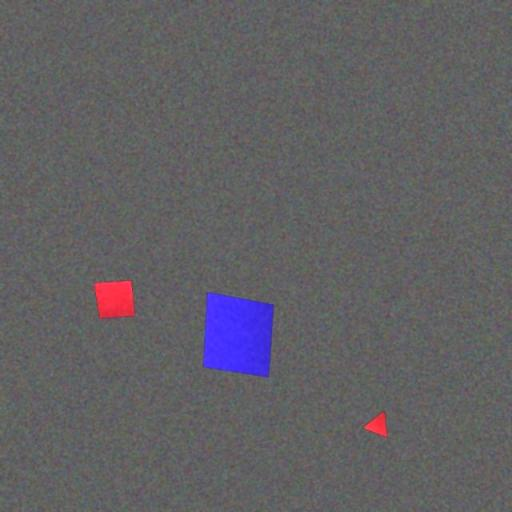BLUE_SQUARE: (202, 292, 274, 378)
RED_SQUARE: (94, 279, 136, 319)
